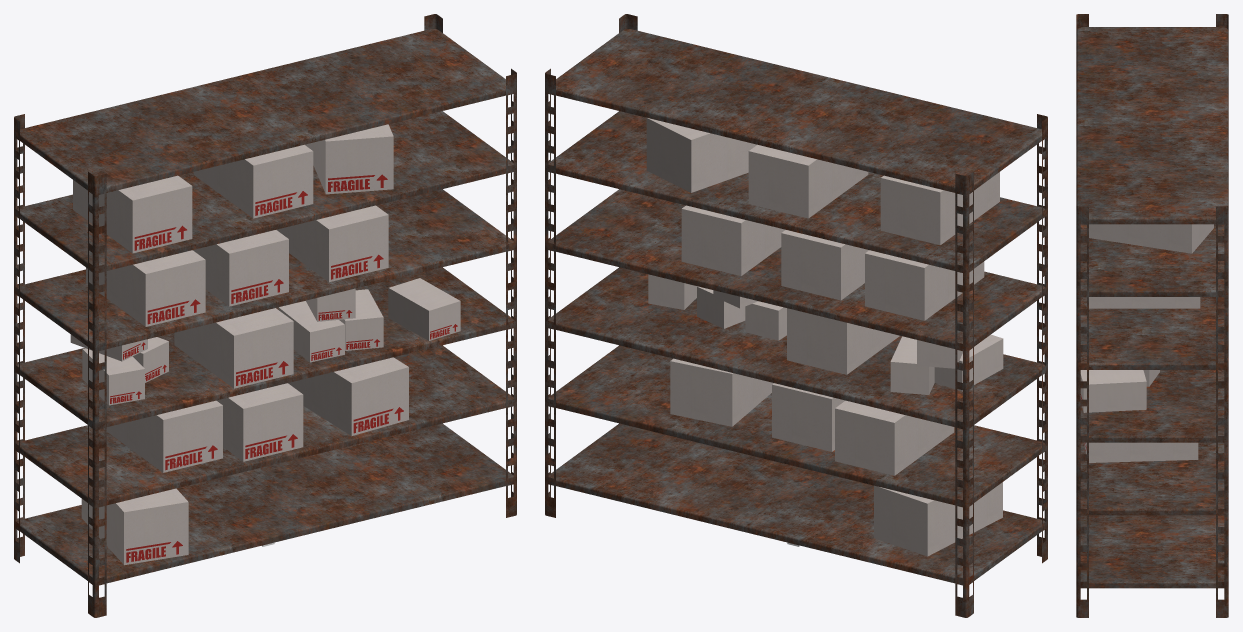
The model's file is estante_cajas.glb.
3 renders of one model, left to right at view 1: azimuth 30°, elevation 25°; view 2: azimuth 150°, elevation 25°; view 3: azimuth 270°, elevation 25°, orthographic. The views are drawn at different scales.
Visible parts, largest first — view 1: Material2.002; view 2: Material2.002; view 3: Material2.002.
Boxes of the visible parts, x1=… form: Material2.002: x1=14, y1=14, x2=516, y2=617; Material2.002: x1=545, y1=14, x2=1047, y2=617; Material2.002: x1=1076, y1=14, x2=1228, y2=617.
Size of the model in its own units: 22.59 by 22.86 by 7.56.
5 materials, 3 textured.
